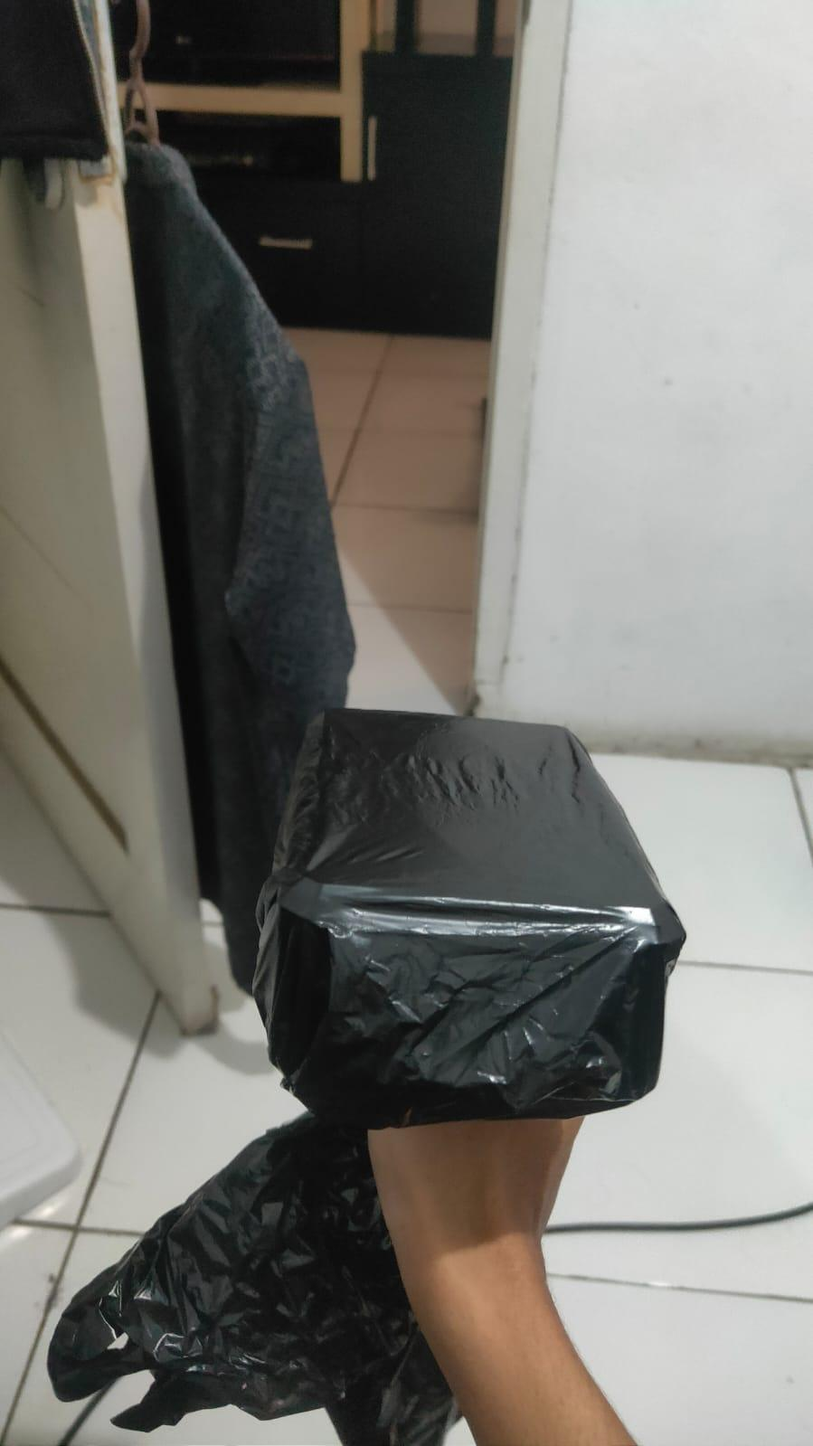undamaged: (229, 702, 696, 1145)
